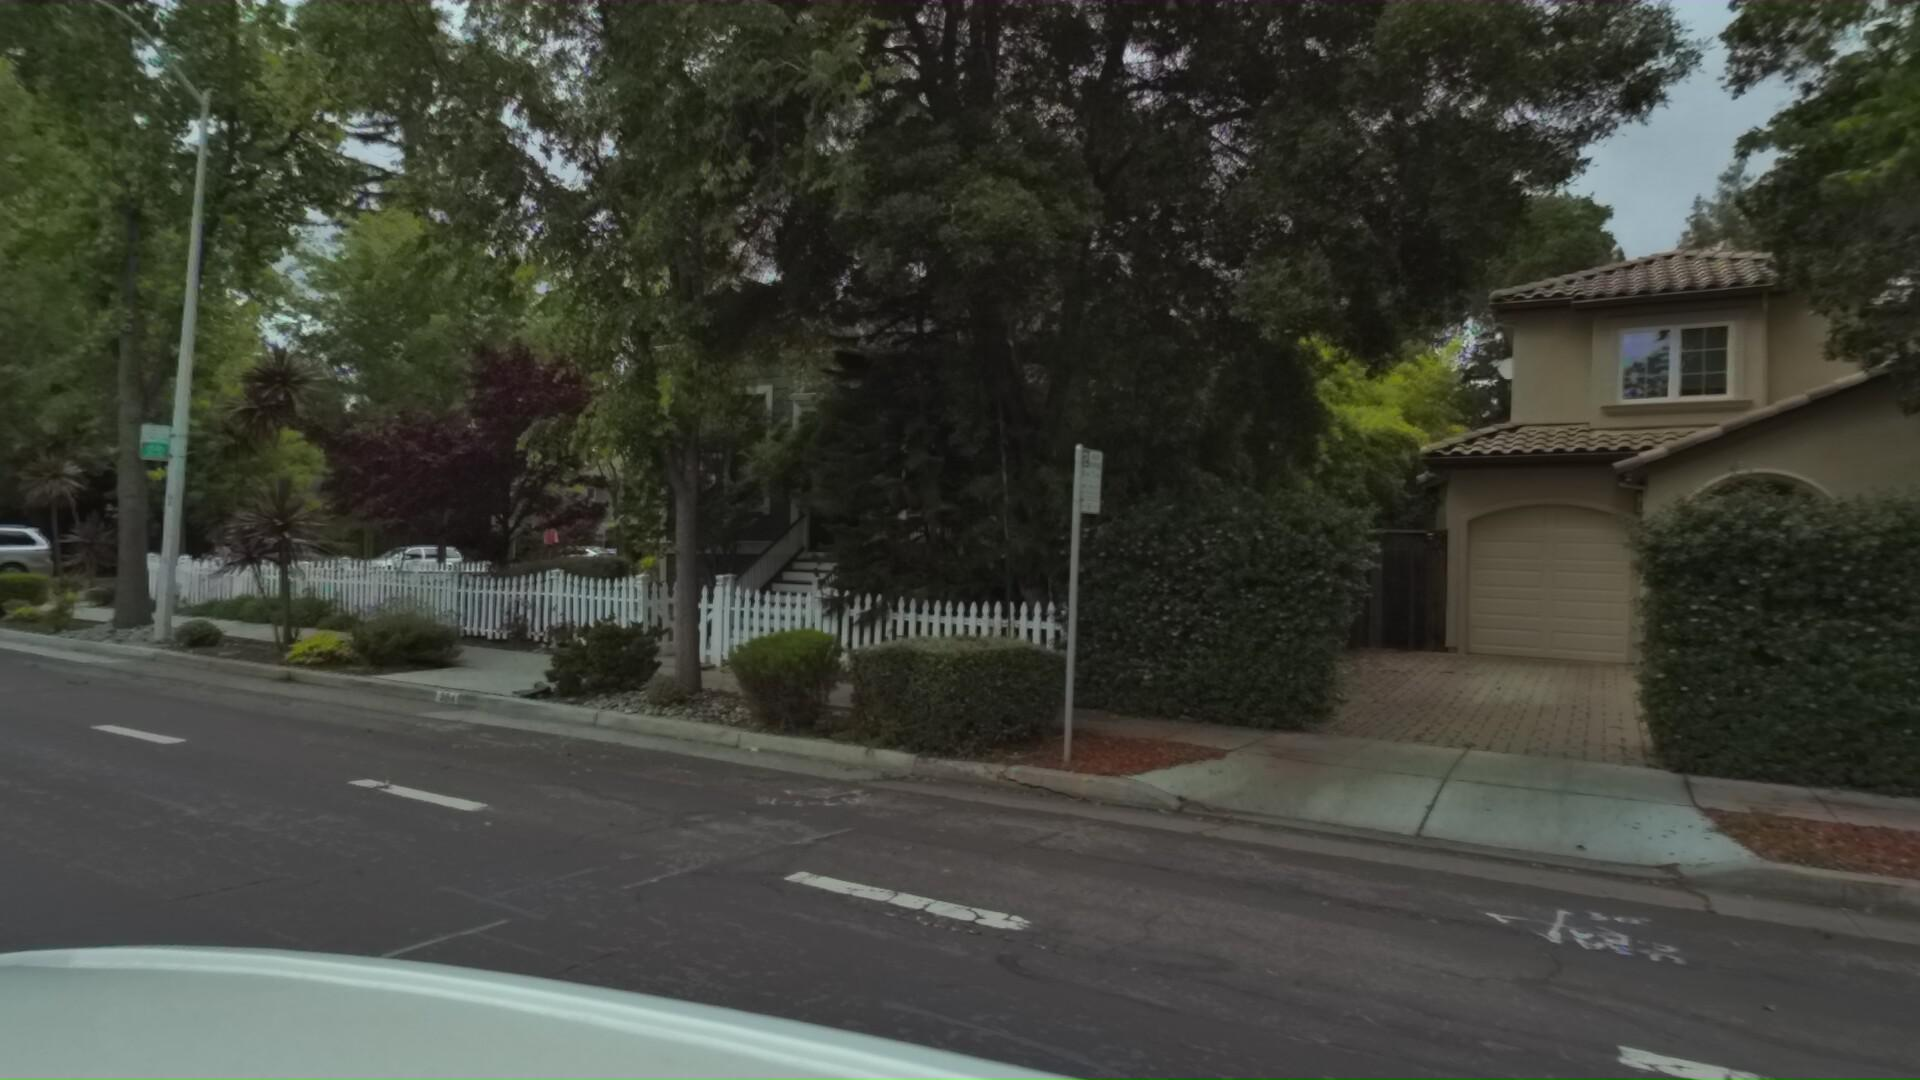car: (178, 534, 382, 603), (334, 543, 465, 584), (0, 522, 55, 592), (537, 545, 618, 574)
